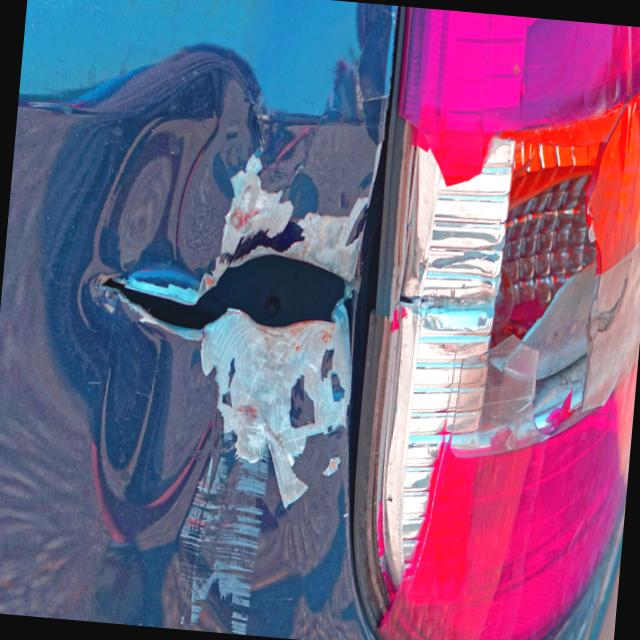Dechirure: (80, 130, 374, 395)
Rayure: (186, 128, 386, 517), (167, 415, 276, 636)
